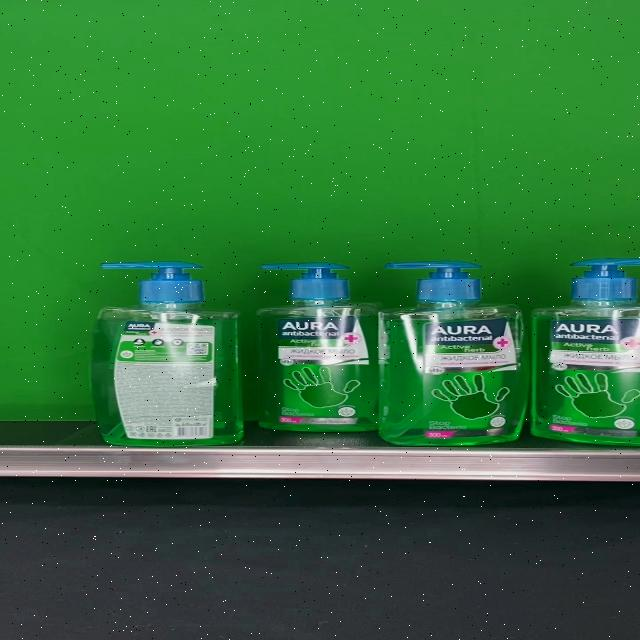Bottle: (377, 261, 530, 445), (92, 261, 241, 446), (258, 264, 378, 432)
Cap: (98, 261, 202, 303), (382, 262, 484, 302), (258, 264, 348, 300)
